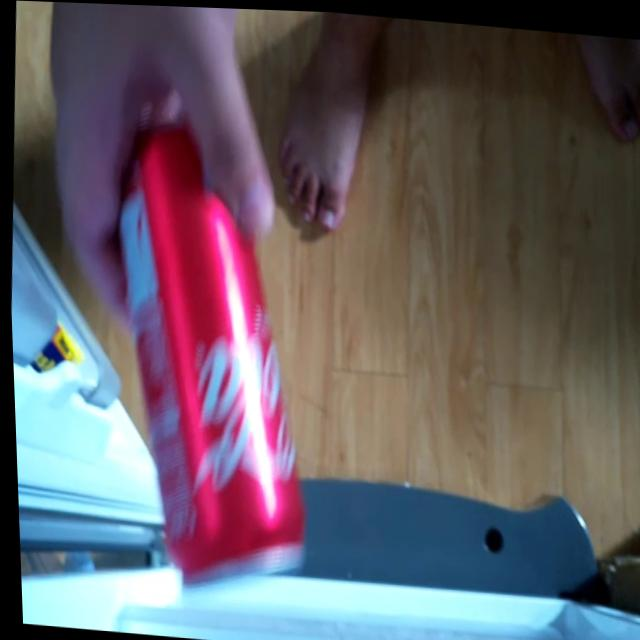coke: (101, 113, 331, 595)
